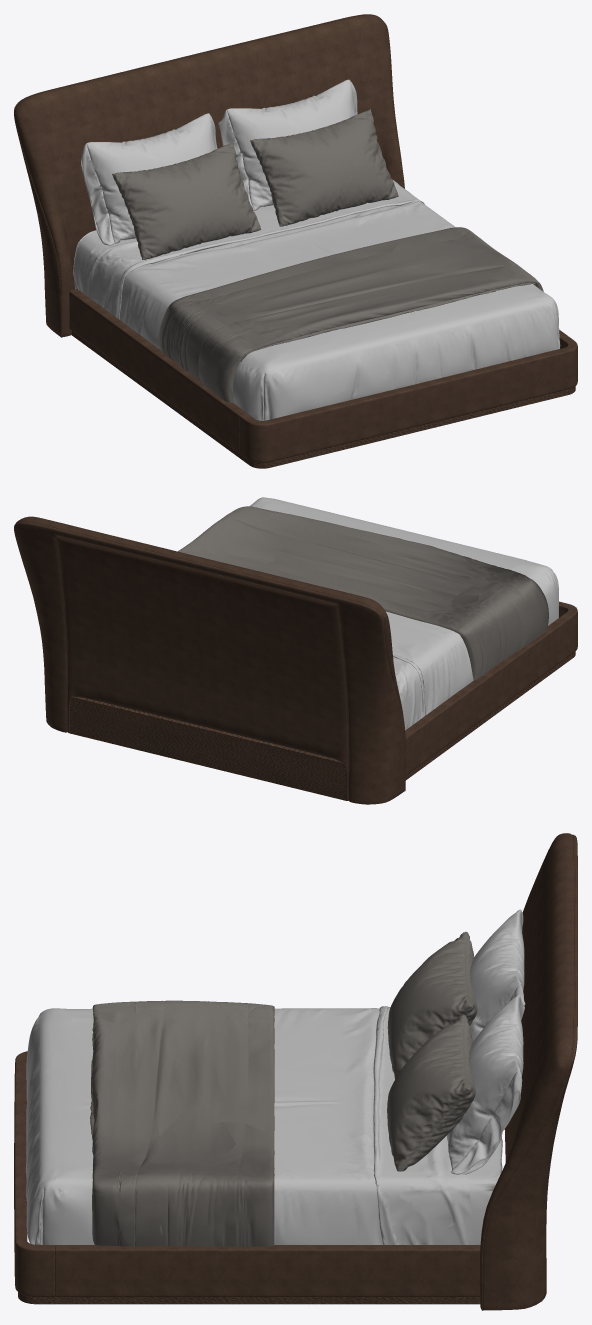
3 renders of one model, top to bottom at view 1: azimuth 30°, elevation 25°; view 2: azimuth 150°, elevation 25°; view 3: azimuth 270°, elevation 25°, orthographic. The views are drawn at different scales.
Visible parts, largest first — view 1: Object028; view 2: Object028; view 3: Object028.
Part boxes in pixels (box(x1,y1,x2,y2)): Object028: box(14, 14, 577, 468); Object028: box(14, 497, 577, 804); Object028: box(14, 833, 577, 1310).
Size of the model in its own units: 0.0217 by 0.0121 by 0.0228.
3 materials, 2 textured.
